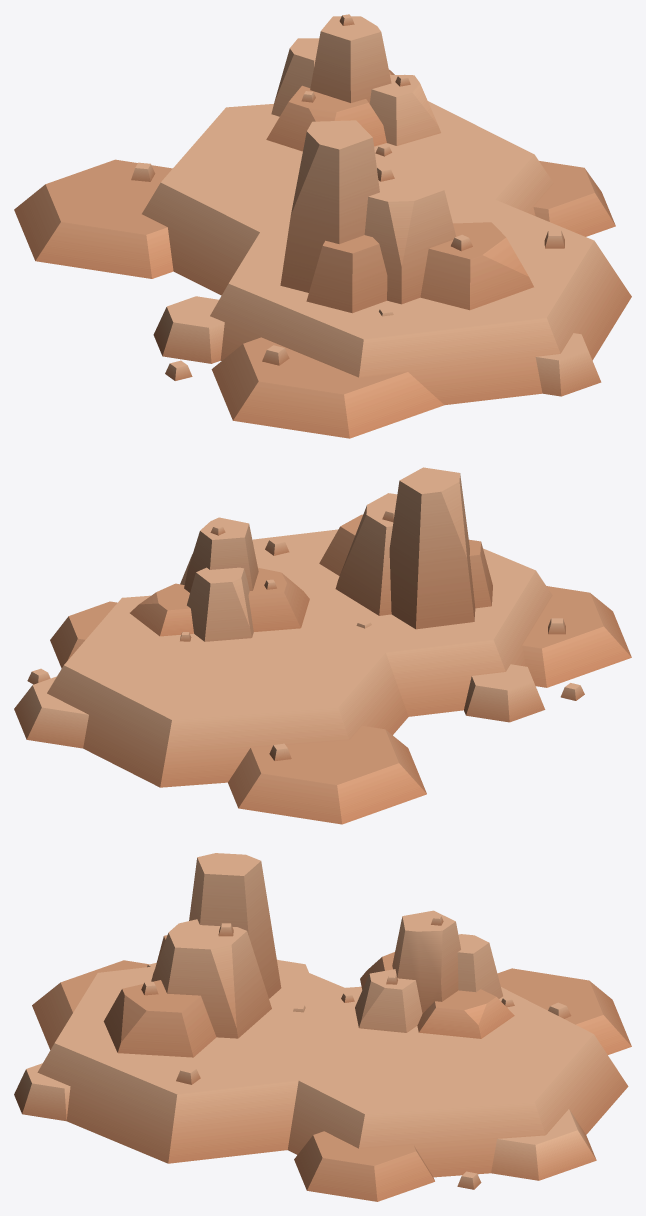
File: DirtPile.fbx
The picture shows the model from 3 angles, top to bottom: view 1: azimuth 30°, elevation 25°; view 2: azimuth 150°, elevation 25°; view 3: azimuth 270°, elevation 25°; orthographic projection. The views are drawn at different scales.
Parts seen in each view (by area): view 1: rock_flat, rock_sand_c, rock_sand_b; view 2: rock_flat, rock_sand_c, rock_sand_b; view 3: rock_flat, rock_sand_c, rock_sand_b.
Boxes of the visible parts, box(x1,y1,x2,y2) form: rock_flat: box(14, 101, 631, 438); rock_sand_c: box(280, 120, 533, 316); rock_sand_b: box(266, 14, 440, 156); rock_flat: box(14, 529, 631, 824); rock_sand_c: box(319, 467, 492, 629); rock_sand_b: box(130, 517, 309, 641); rock_flat: box(14, 959, 631, 1201); rock_sand_c: box(103, 853, 305, 1057); rock_sand_b: box(341, 910, 514, 1038).
Size of the model in its own units: 585 by 224 by 671.
Materials: 3 (3 with a texture image).
